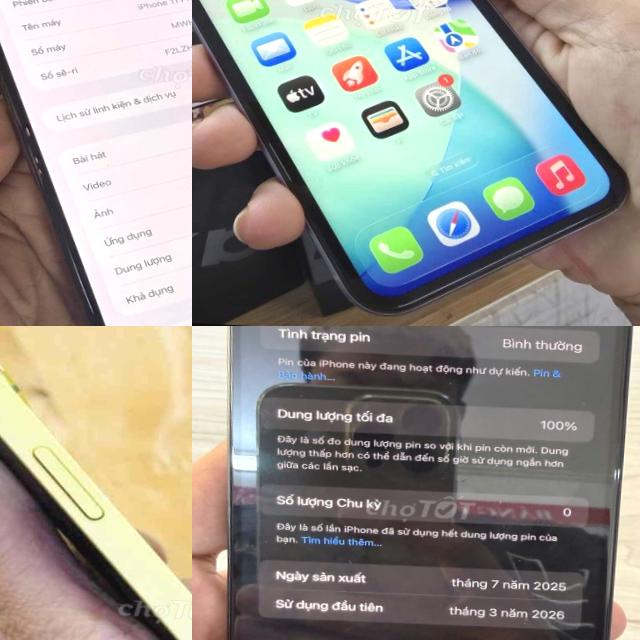gen_11: (192, 0, 640, 326), (0, 0, 192, 326)
gen_14: (0, 326, 192, 640)
gen_15: (192, 326, 640, 640)
